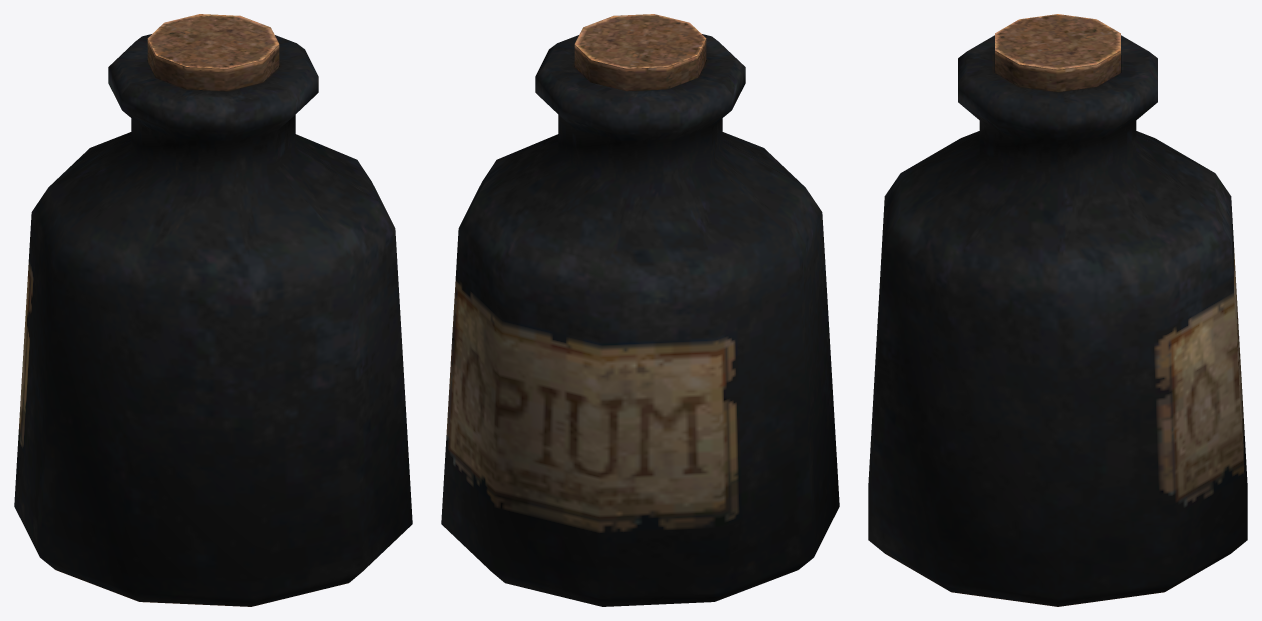
File: opium_flask.dae
3 renders of one model, left to right at view 1: azimuth 30°, elevation 25°; view 2: azimuth 150°, elevation 25°; view 3: azimuth 270°, elevation 25°, orthographic.
Visible parts, largest first — view 1: Flask03; view 2: Flask03; view 3: Flask03.
Part boxes in pixels (left/top/right/bottom): Flask03: left=14, top=14, right=412, bottom=606; Flask03: left=441, top=14, right=839, bottom=606; Flask03: left=868, top=14, right=1247, bottom=606.
Size of the model in its own units: 0.2222 by 0.2113 by 0.3.
